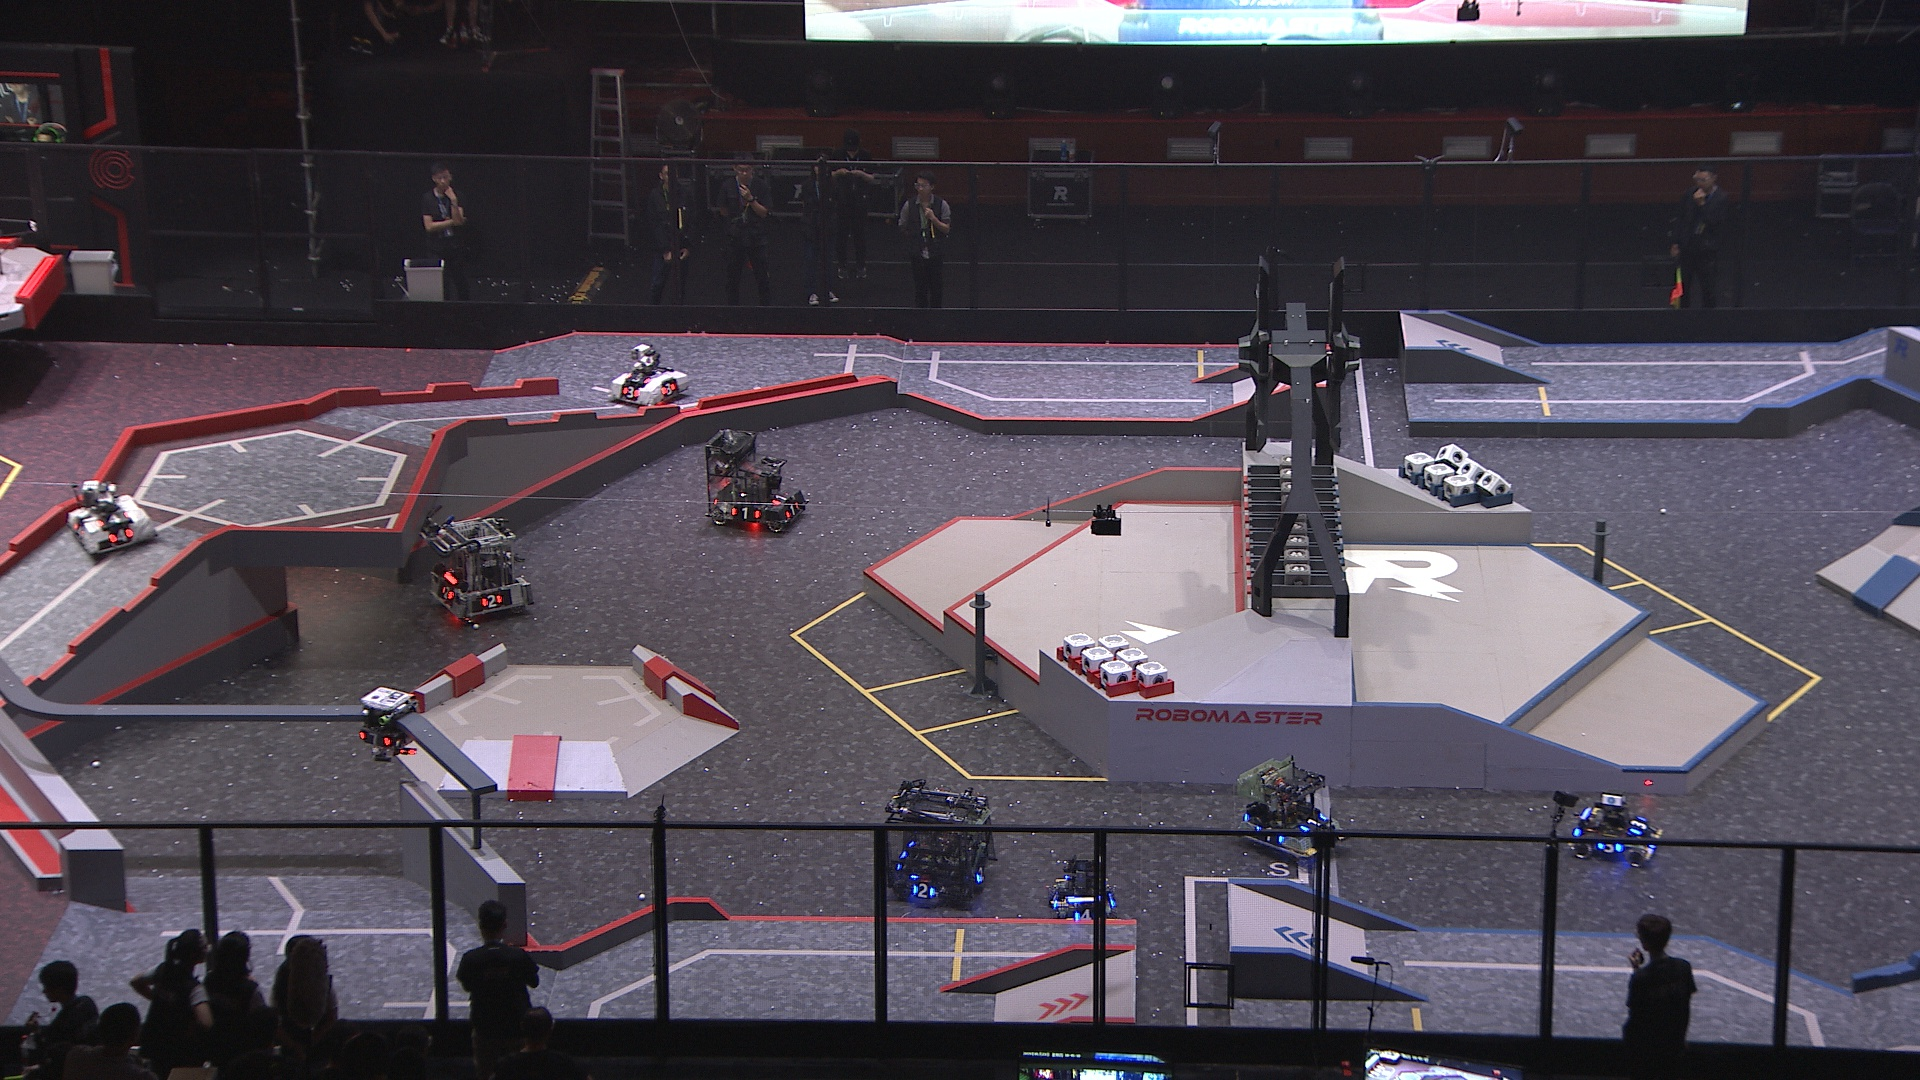armor: (727, 502, 764, 524), (1253, 825, 1287, 845), (356, 731, 392, 749), (1298, 812, 1327, 832), (98, 512, 131, 527), (107, 527, 135, 546), (477, 591, 504, 609), (909, 884, 939, 899), (783, 496, 803, 520), (1596, 841, 1625, 856), (1627, 816, 1647, 836), (622, 372, 651, 385), (439, 584, 458, 604), (1073, 906, 1095, 922), (770, 489, 789, 506), (975, 866, 988, 887), (661, 381, 679, 396), (621, 386, 641, 400)
car: (877, 779, 997, 902), (418, 517, 535, 626), (703, 429, 807, 535), (1240, 756, 1342, 860), (62, 479, 156, 559), (1569, 790, 1662, 869), (608, 342, 688, 407), (1048, 853, 1120, 927)
watcher: (353, 684, 419, 764)
